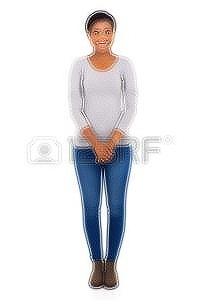arm: (124, 55, 137, 126), (72, 63, 83, 123)
chest: (83, 71, 124, 124)
face: (86, 7, 121, 51)
foot: (90, 261, 105, 289), (107, 261, 120, 288)
hand: (90, 138, 120, 164)
leg: (73, 147, 101, 259), (103, 146, 121, 260)
neck: (90, 49, 121, 69)
